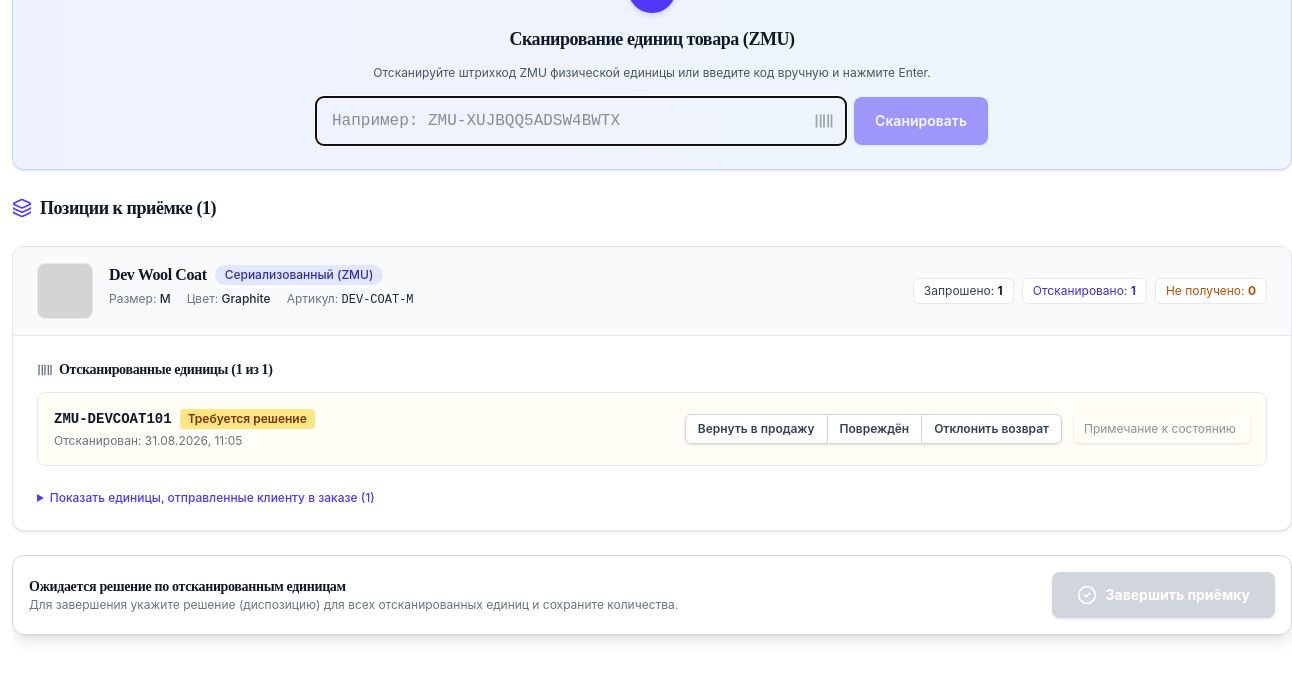
Test: AdminReturnReceiving Component & Flows › updates unit disposition to restock and updates condition note
(page scrolled)
Click the button "Вернуть в продажу": x=756, y=429 [685,414,828,444]
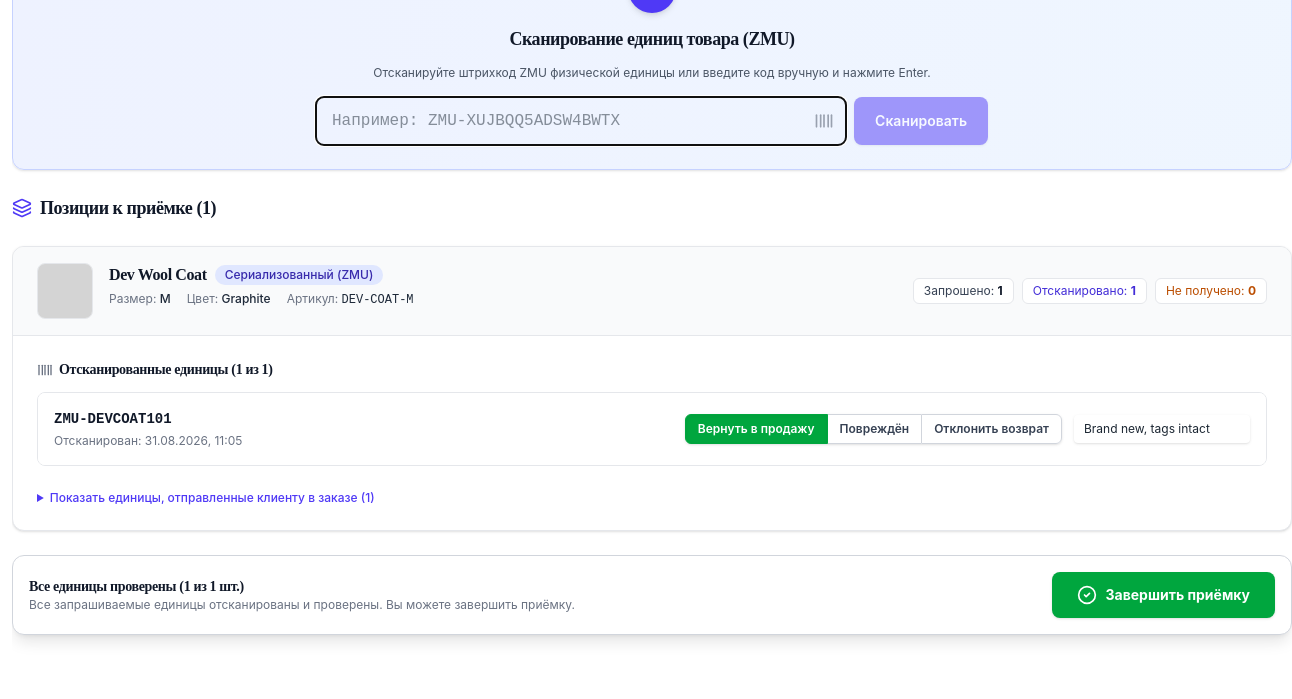
Expected: the button "Завершить приёмку" is enabled, [1052,572,1275,618]
